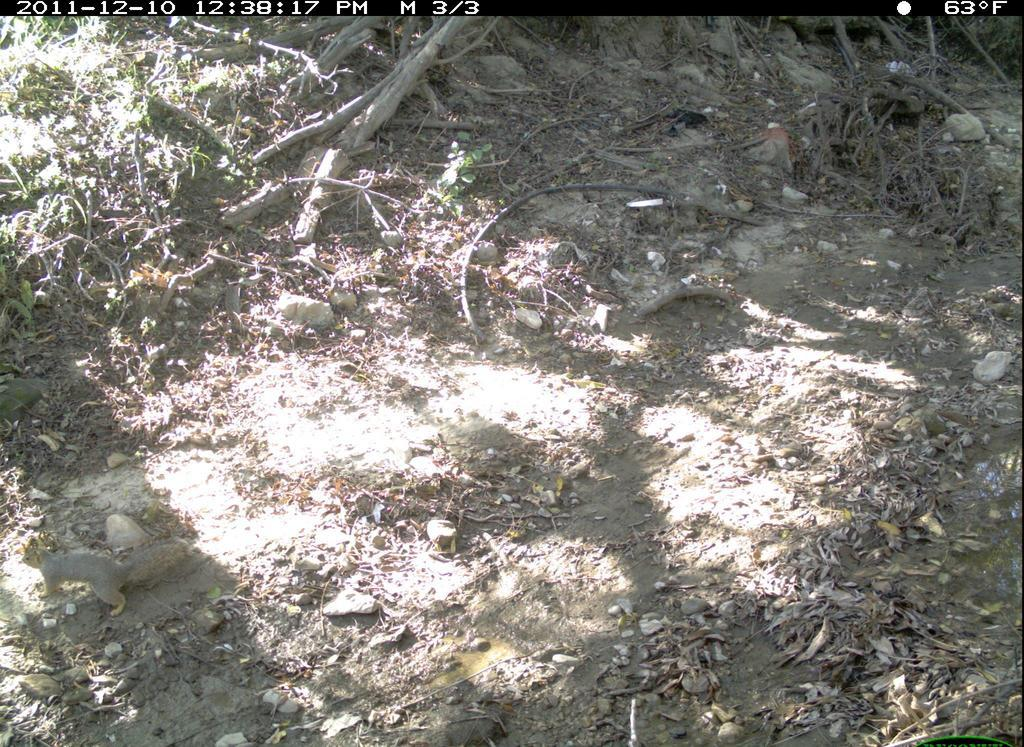squirrel: (18, 533, 205, 623)
